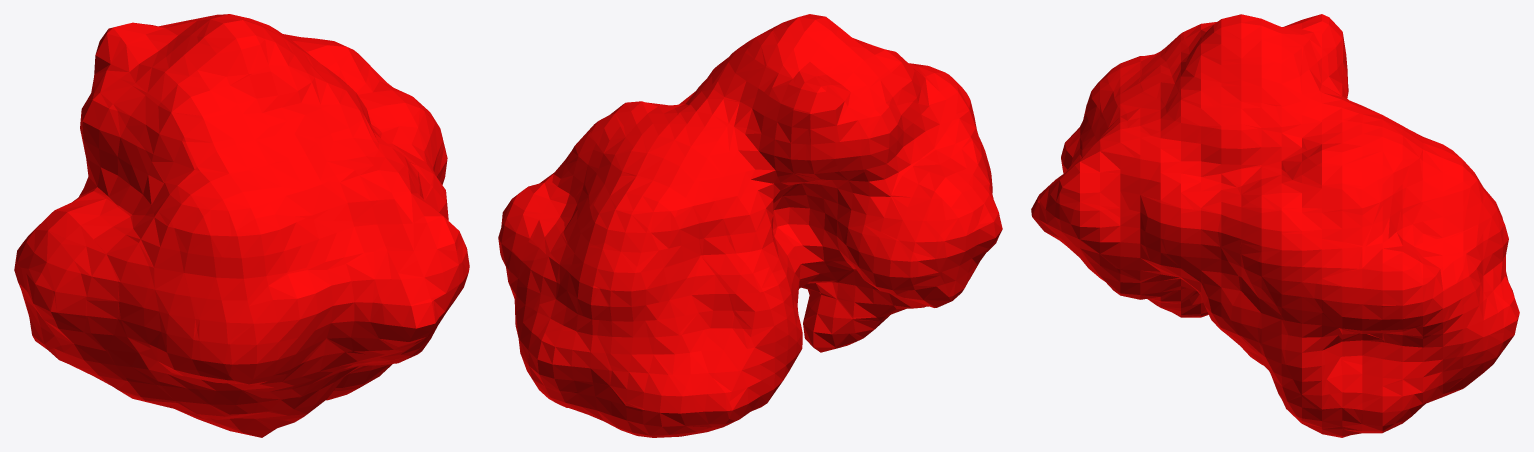
Rendered from lpxB_coarse.dae.
3 renders of one model, left to right at view 1: azimuth 30°, elevation 25°; view 2: azimuth 150°, elevation 25°; view 3: azimuth 270°, elevation 25°, orthographic. The views are drawn at different scales.
Visible parts, largest first — view 1: lpxB; view 2: lpxB; view 3: lpxB.
Boxes of the visible parts, x1,y1,x2,y2 form: lpxB: (14, 14, 469, 437); lpxB: (498, 14, 1002, 437); lpxB: (1031, 14, 1519, 437).
Size of the model in its own units: 62.01 by 56.87 by 70.56.
